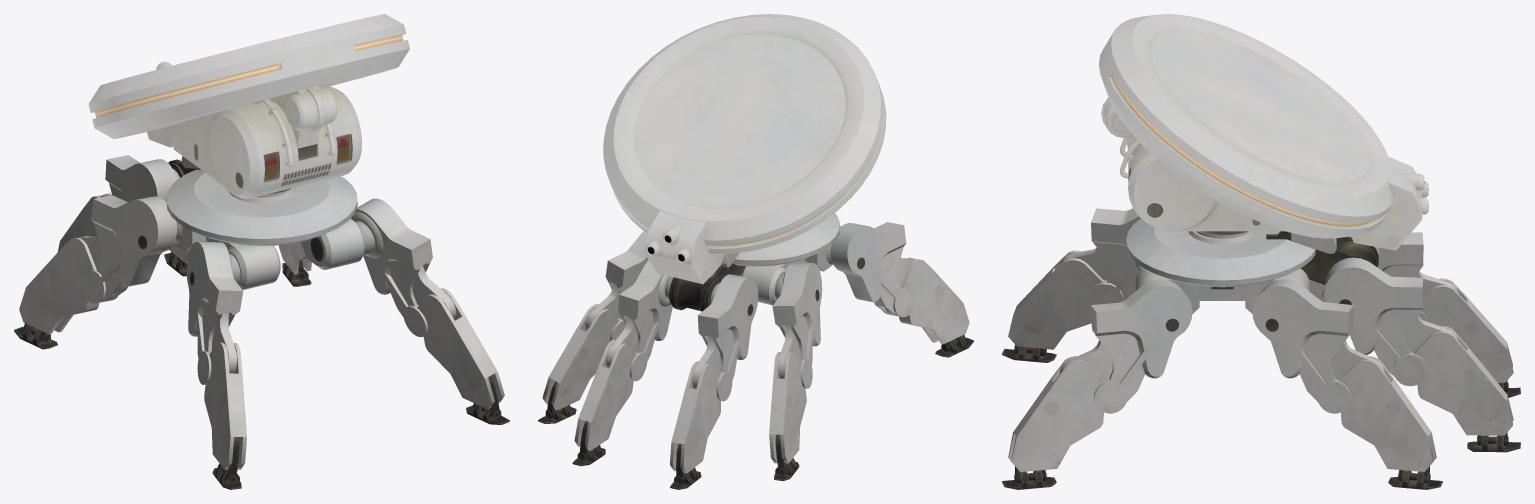
The model's file is kamdo.glb.
3 views of the same model, side by side, from view 1: azimuth 30°, elevation 25°; view 2: azimuth 150°, elevation 25°; view 3: azimuth 270°, elevation 25° (orthographic). The views are drawn at different scales.
Parts seen in each view (by area): view 1: S2WT_E_(LP)_BODY_Body_0, S2WT_E_(LP)_HEAD_Head_0; view 2: S2WT_E_(LP)_HEAD_Head_0, S2WT_E_(LP)_BODY_Body_0; view 3: S2WT_E_(LP)_BODY_Body_0, S2WT_E_(LP)_HEAD_Head_0.
Boxes of the visible parts, bbox=[...] form: S2WT_E_(LP)_BODY_Body_0: bbox=[14, 155, 509, 489]; S2WT_E_(LP)_HEAD_Head_0: bbox=[88, 14, 409, 198]; S2WT_E_(LP)_HEAD_Head_0: bbox=[603, 14, 886, 284]; S2WT_E_(LP)_BODY_Body_0: bbox=[538, 213, 973, 489]; S2WT_E_(LP)_BODY_Body_0: bbox=[1002, 208, 1520, 489]; S2WT_E_(LP)_HEAD_Head_0: bbox=[1099, 14, 1428, 250].
Size of the model in its own units: 2.86 by 3.68 by 4.53.
Materials: 2 (2 with a texture image).
